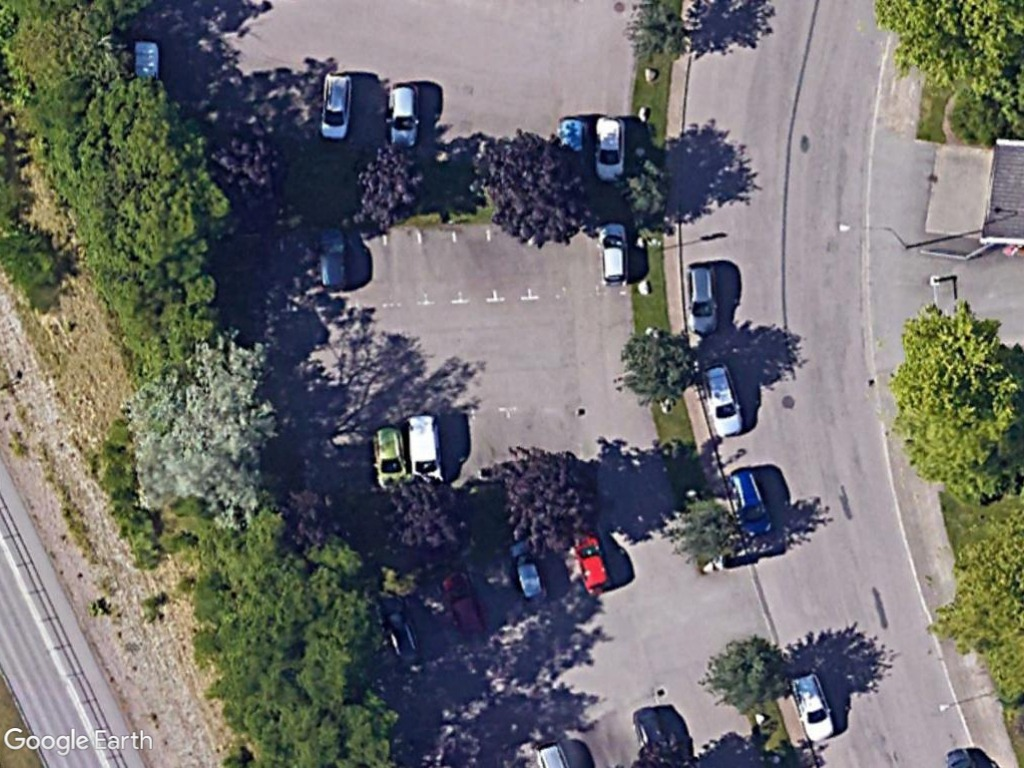car: (697, 357, 749, 441), (788, 669, 839, 744), (728, 465, 777, 543), (314, 67, 357, 144), (384, 78, 425, 154), (591, 110, 632, 185), (683, 261, 722, 339), (596, 216, 634, 294)
